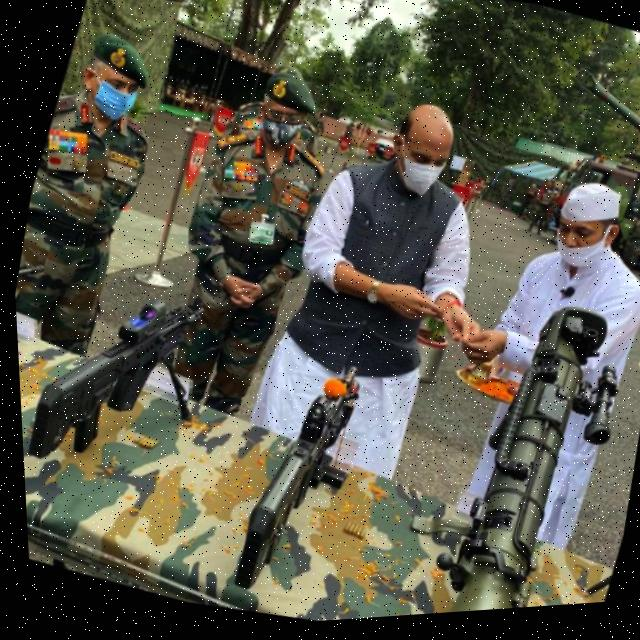rocket: (364, 272, 640, 622)
